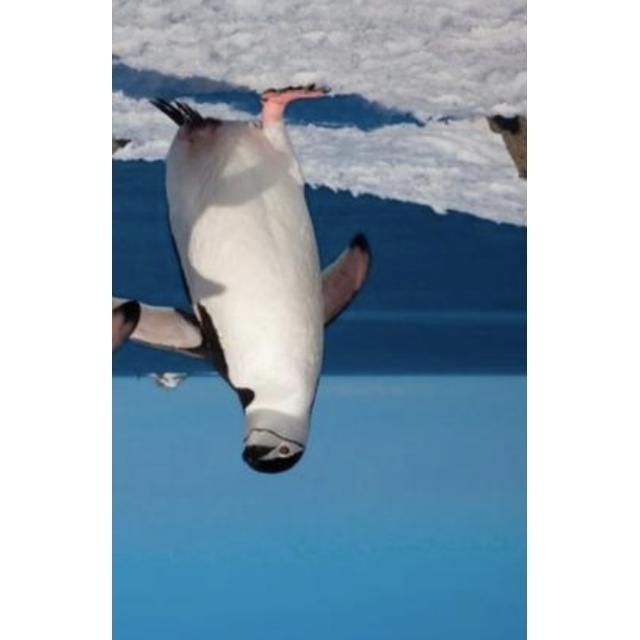penguin: (116, 81, 372, 474)
